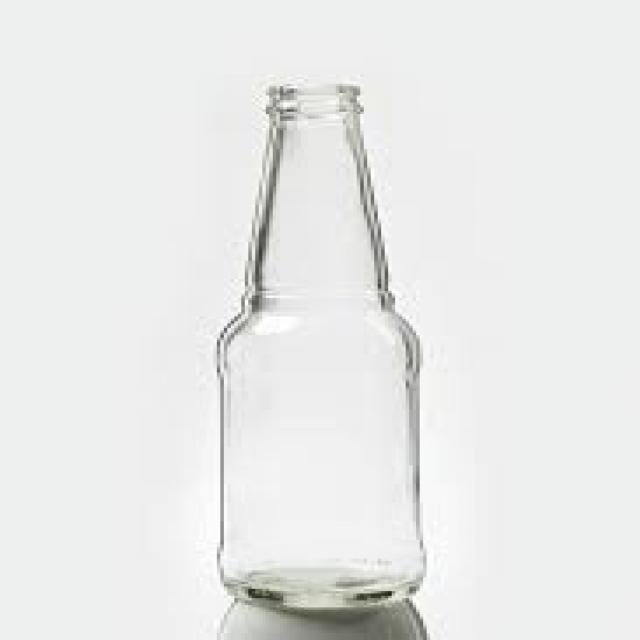Glass-Non-Biodegradable but Recyclable-: (209, 86, 426, 613)
